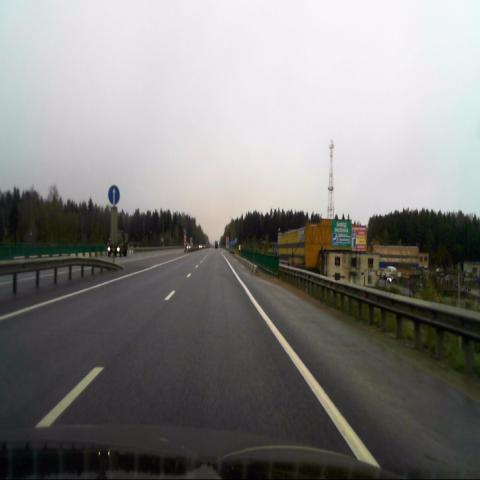4_1_1: (108, 184, 120, 204)
